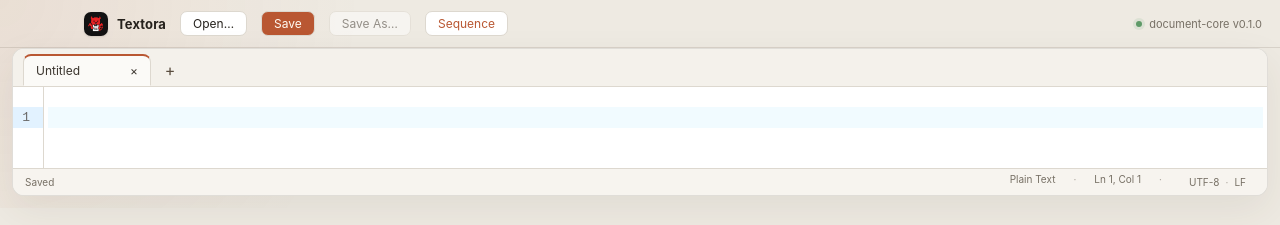
Test case: App open flow › updates readonly metadata without reloading editor content
Click the button with class "open-button": (214, 24) 180,11 -> 247,36
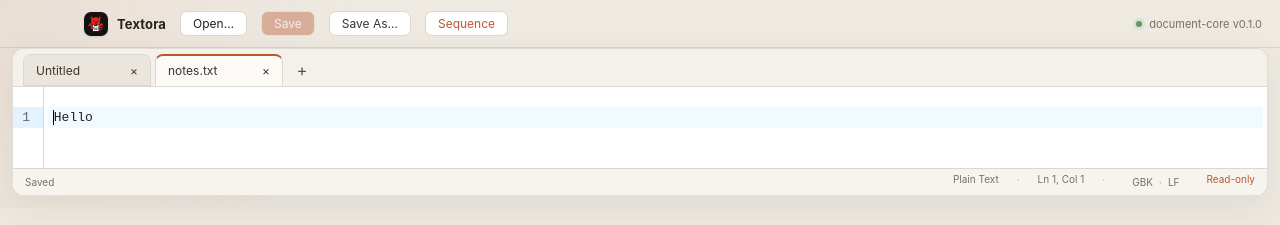
Expected: the text with class "readonly-badge" reads "Read-only", 1206,173 -> 1255,185
Expected: the field with class "cm-content" reads "Hello", 48,107 -> 1263,128
Expected: the button with class "save-button" is disabled, 261,11 -> 315,36
